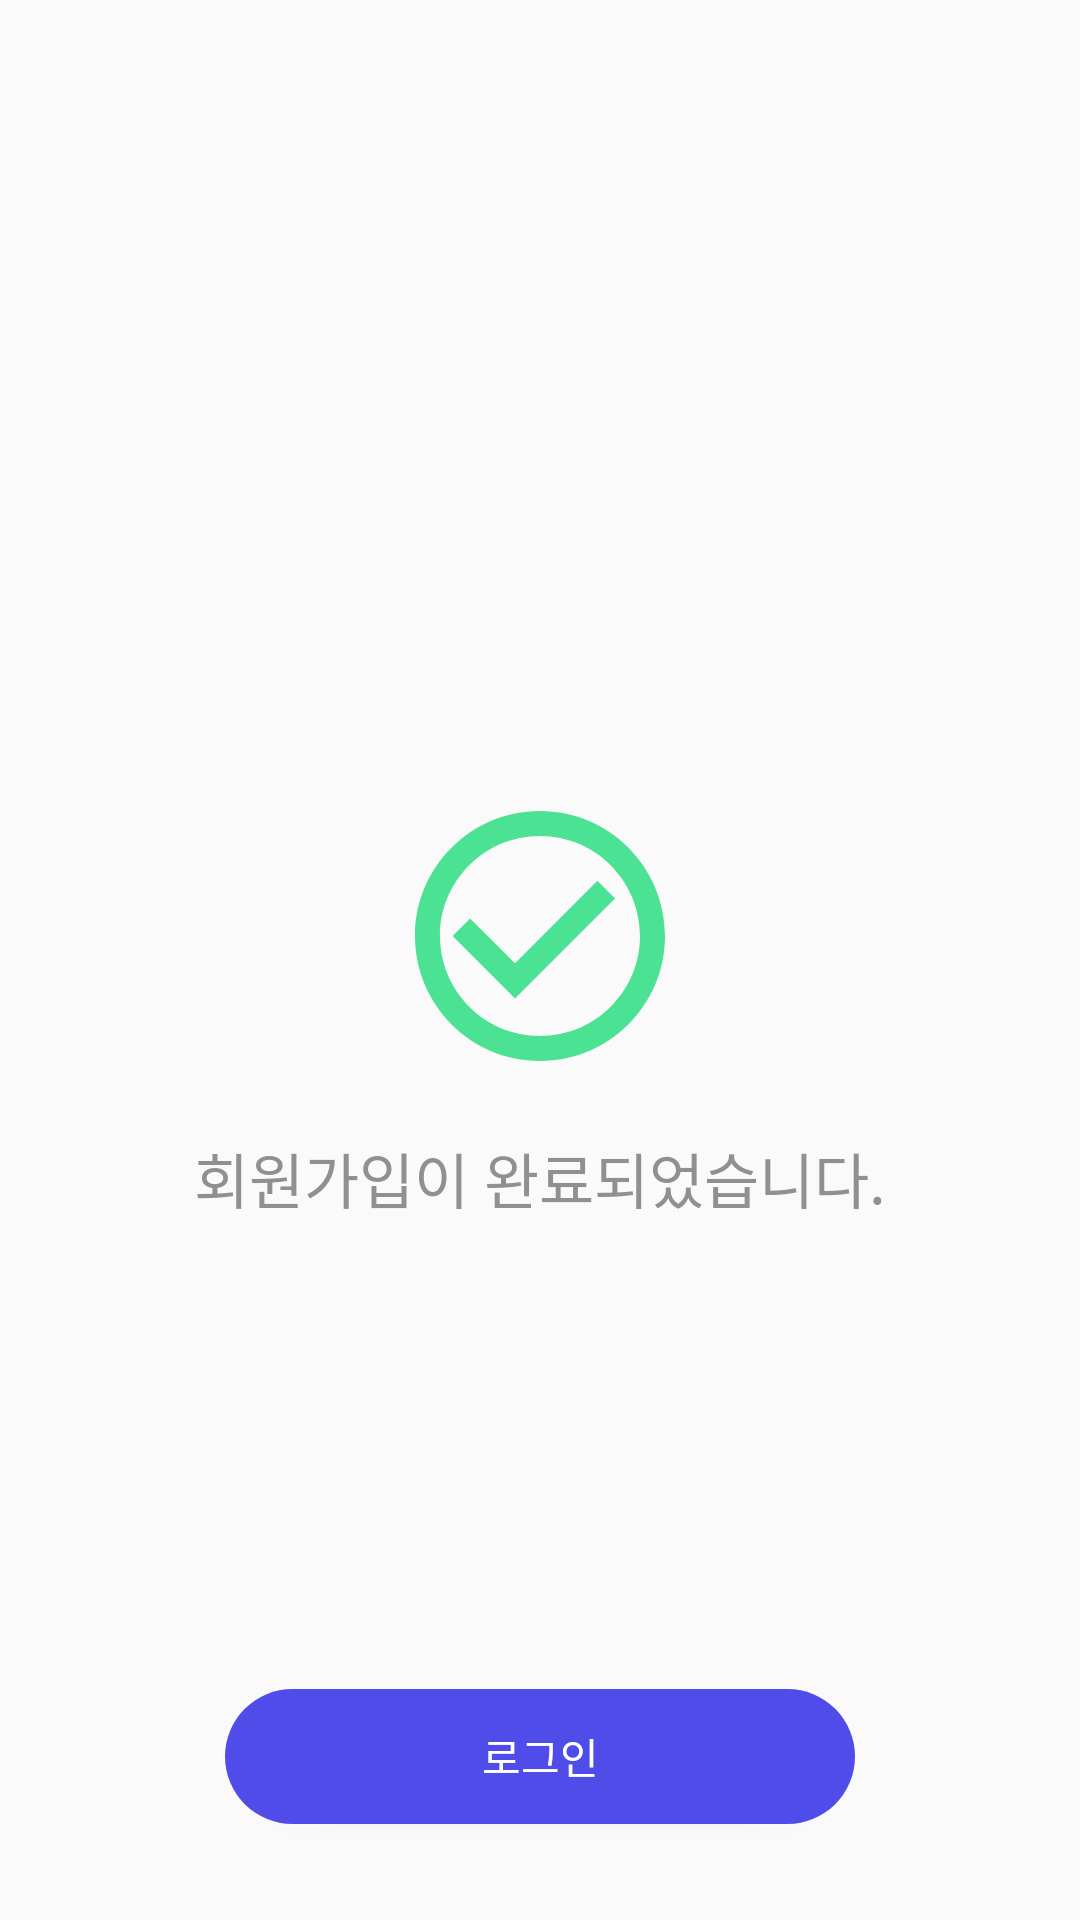

Icons on this 1080px×1920px Android screen, each with its box as box(x1, y1, x2, y2):
signin complete: box(415, 811, 665, 1061)
